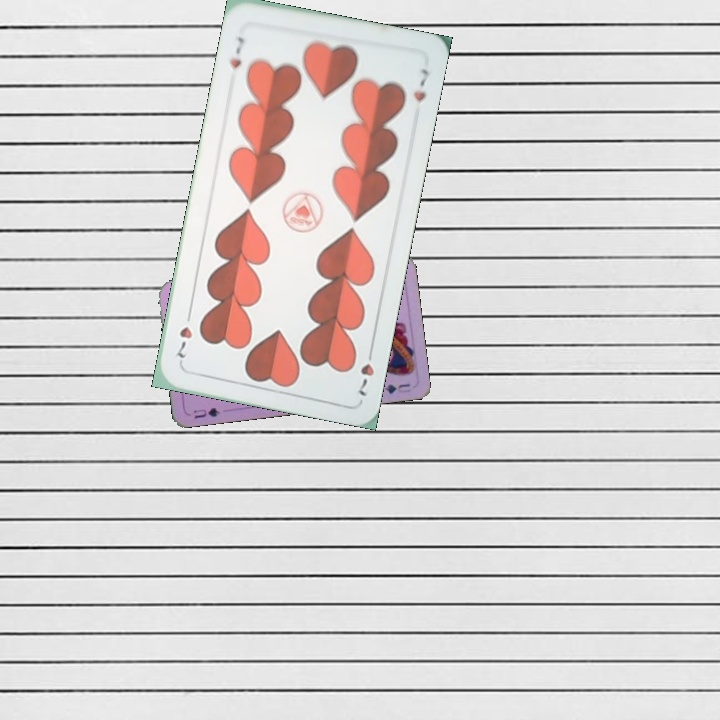GU: (190, 403, 222, 421)
H7: (354, 342, 377, 399), (226, 32, 248, 71)
